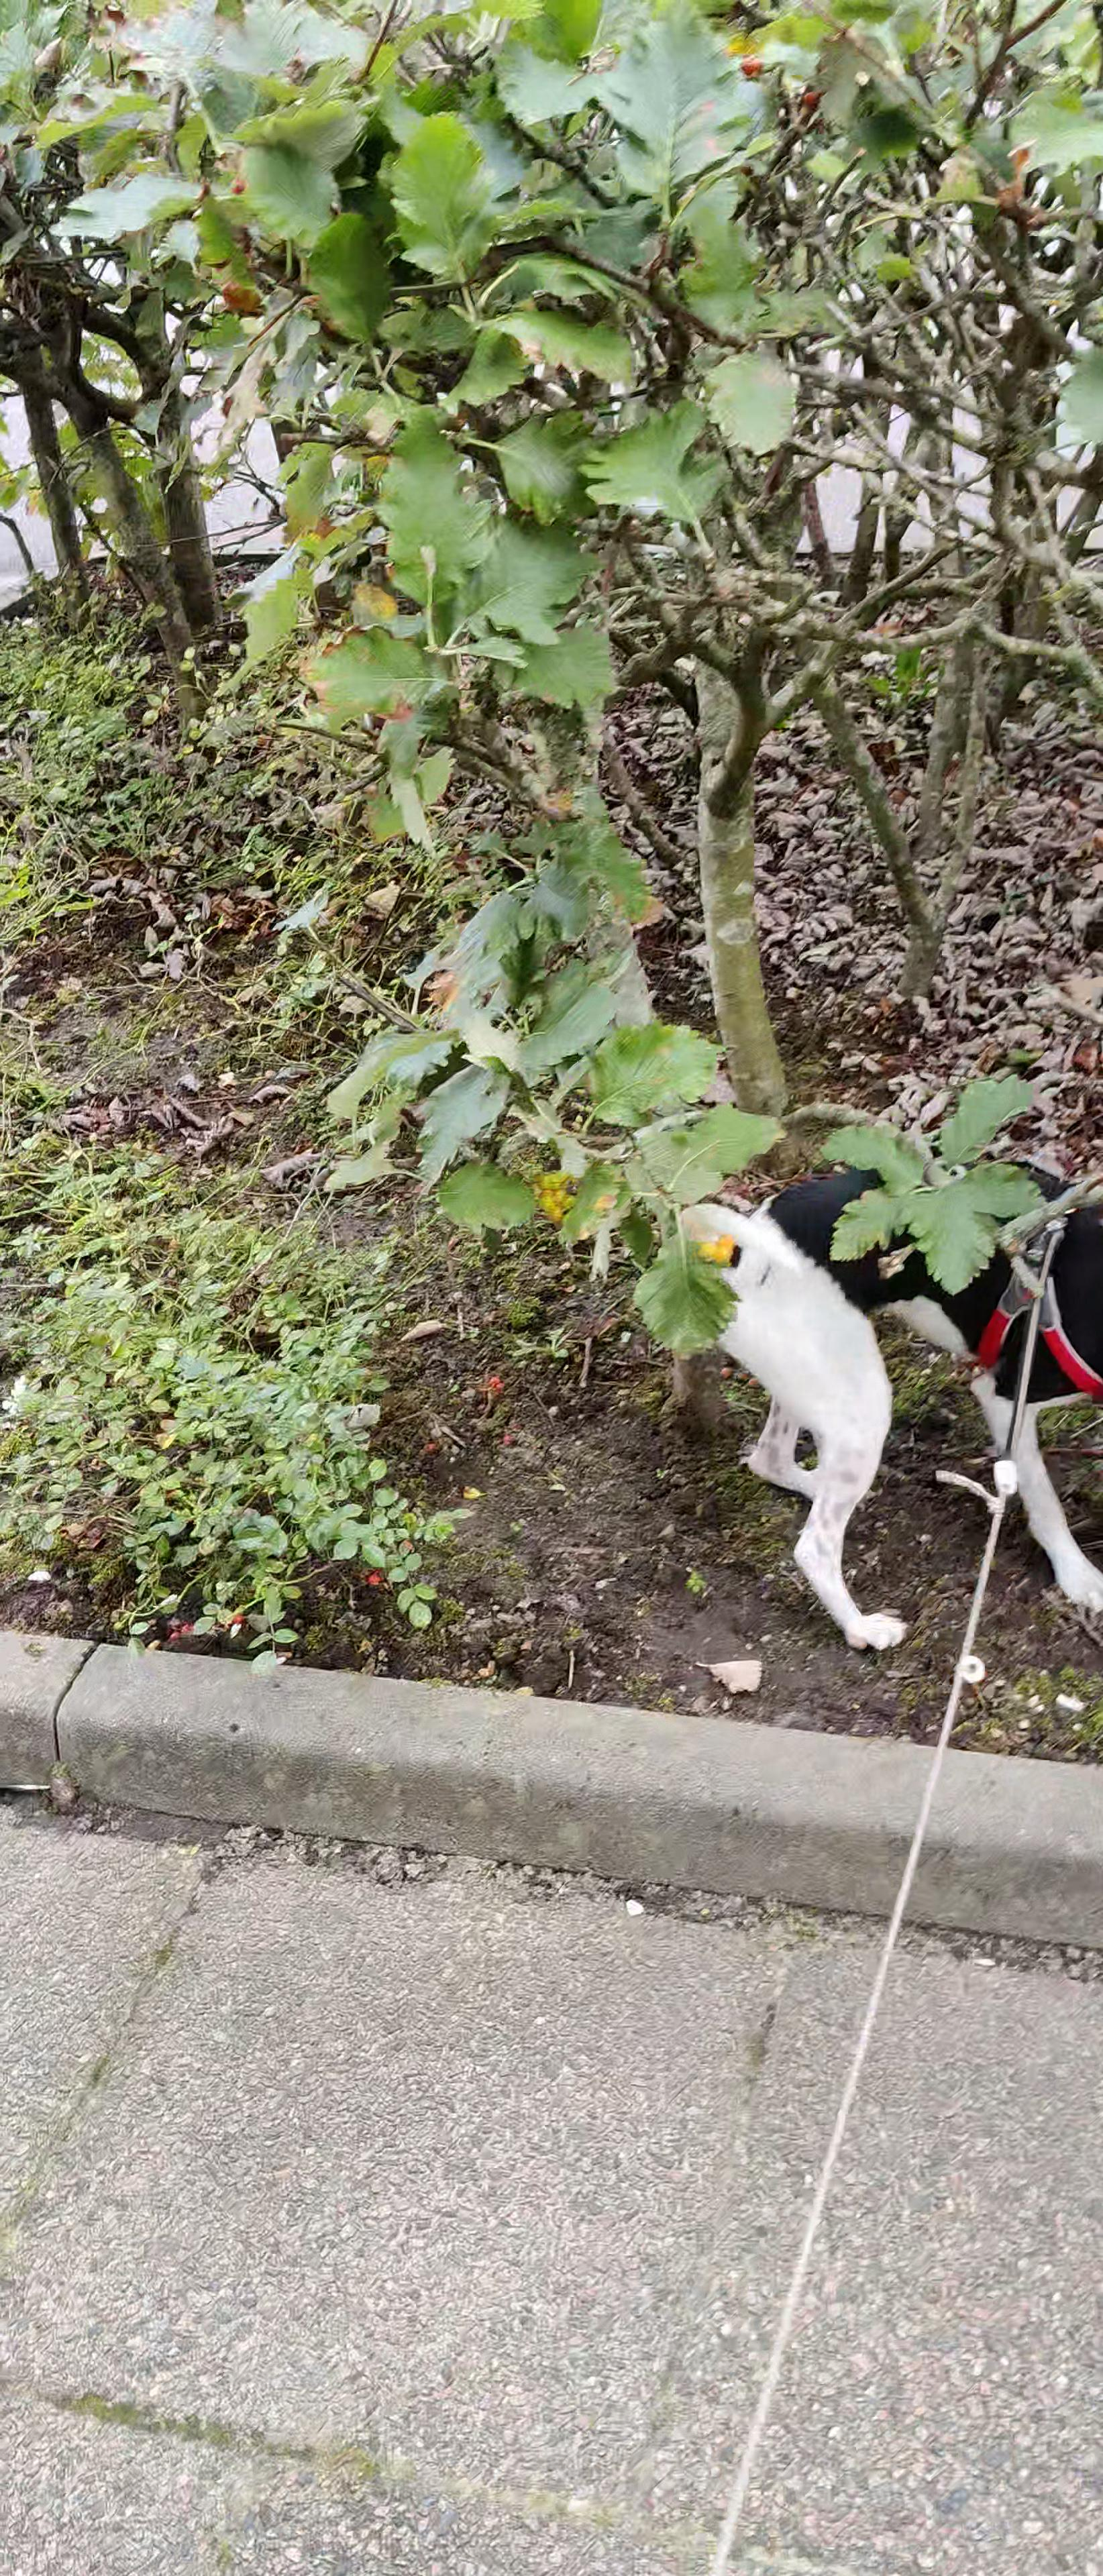Dog: (664, 1112, 1103, 1656)
